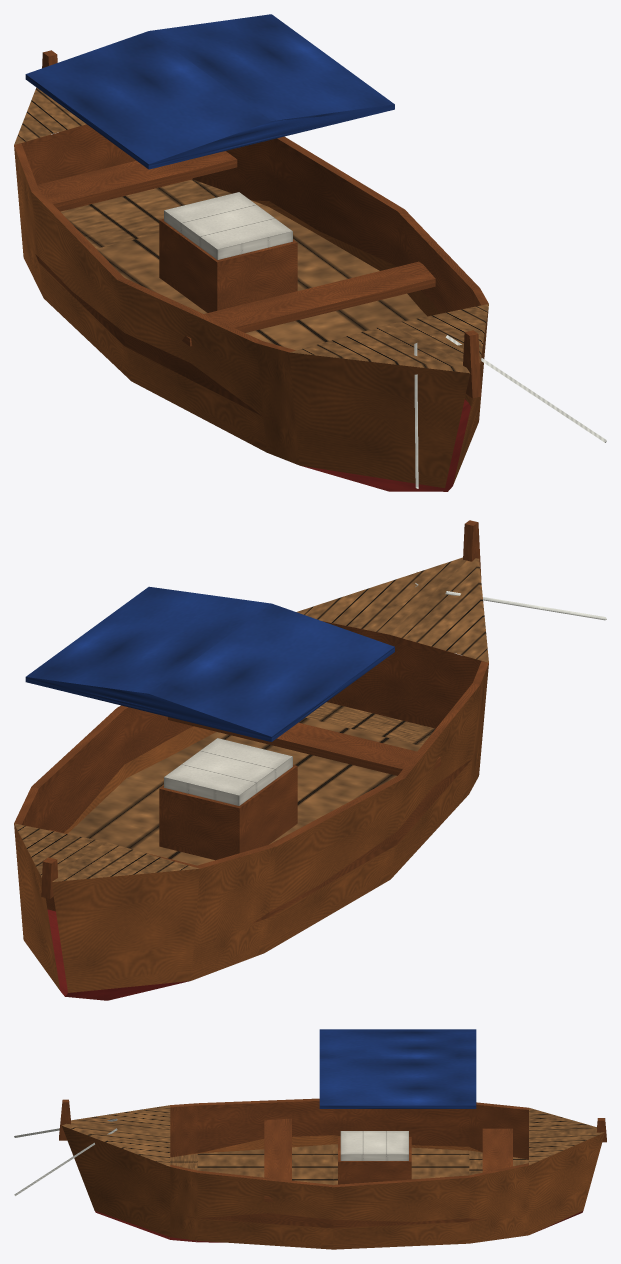
The model's file is SM_Morin_Barca_Gozzo_Legno_Prua_LOD2.fbx.
3 renders of one model, top to bottom at view 1: azimuth 30°, elevation 25°; view 2: azimuth 150°, elevation 25°; view 3: azimuth 270°, elevation 25°, orthographic. The views are drawn at different scales.
Parts seen in each view (by area): view 1: SM_Morin_Barca_Gozzo_Legno_Prua_LOD2; view 2: SM_Morin_Barca_Gozzo_Legno_Prua_LOD2; view 3: SM_Morin_Barca_Gozzo_Legno_Prua_LOD2.
Part boxes in pixels (x1=…): SM_Morin_Barca_Gozzo_Legno_Prua_LOD2: x1=14, y1=14, x2=606, y2=491; SM_Morin_Barca_Gozzo_Legno_Prua_LOD2: x1=14, y1=520, x2=606, y2=1000; SM_Morin_Barca_Gozzo_Legno_Prua_LOD2: x1=14, y1=1029, x2=606, y2=1249.
Size of the model in its own units: 229 by 644 by 222.
1 material, 1 textured.
